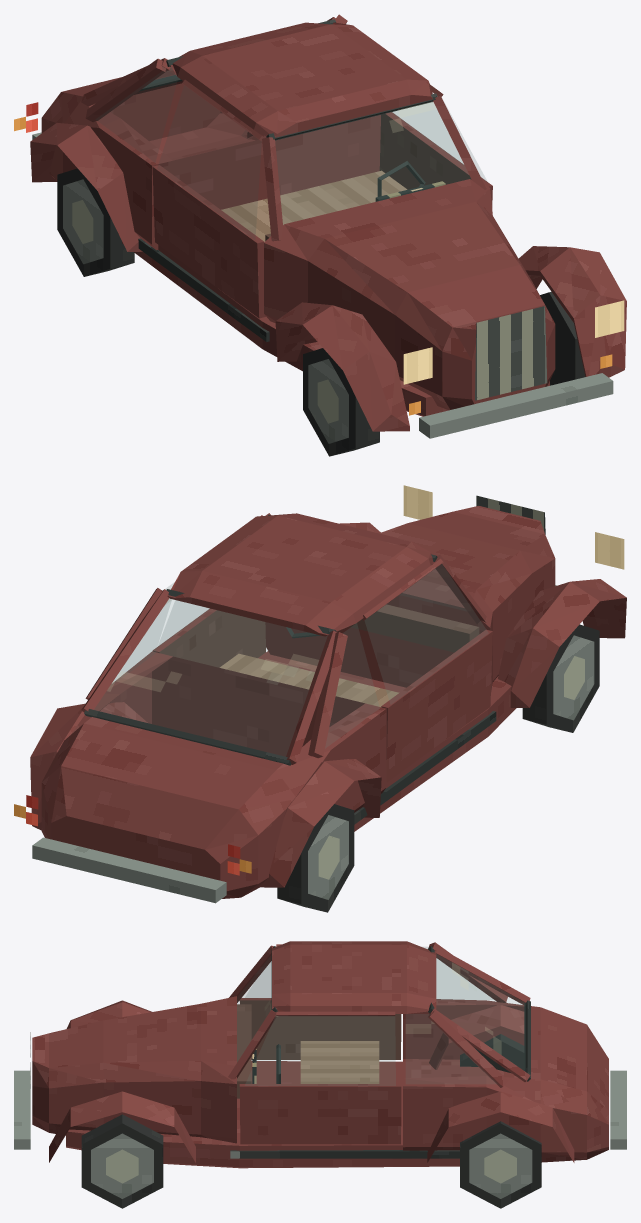
File: fenmere-1938-mid.glb
3 views of the same model, one above another, from view 1: azimuth 30°, elevation 25°; view 2: azimuth 150°, elevation 25°; view 3: azimuth 270°, elevation 25° (orthographic). The views are drawn at different scales.
Visible parts, largest first — view 1: body, Hood opening panel, Hinged side glass.001, Shaped hinged outer door.001, Padded inside door panel, Distance tyre.003, Distance tyre.001, Distance tyre, Distance hubcap.006, Distance hubcap.002, Hinged side glass, Lens (+5 smaller); view 2: body, Trunk opening panel, Hinged side glass.001, Hood opening panel, Shaped hinged outer door.001, Padded inside door panel, Distance tyre.001, Distance tyre.003, Distance hubcap.002, Distance hubcap.006, Lens.005, Lens (+4 smaller); view 3: body, Hood opening panel, Shaped hinged outer door, Hinged side glass, Trunk opening panel, Padded inside door panel.001, Distance tyre, Distance tyre.002, Distance hubcap.004, Distance hubcap, Distance tyre.003, Distance hubcap.001 (+4 smaller).
Part boxes in pixels (bbox=[...]): body: bbox=[30, 14, 626, 438]; Hood opening panel: bbox=[285, 179, 544, 329]; Hinged side glass.001: bbox=[158, 86, 261, 239]; Shaped hinged outer door.001: bbox=[152, 167, 259, 318]; Padded inside door panel: bbox=[379, 114, 471, 189]; Distance tyre.003: bbox=[57, 168, 134, 276]; Distance tyre.001: bbox=[303, 348, 379, 456]; Distance tyre: bbox=[540, 291, 585, 385]; Distance hubcap.006: bbox=[63, 179, 103, 264]; Distance hubcap.002: bbox=[308, 359, 348, 443]; Hinged side glass: bbox=[392, 93, 487, 182]; Lens: bbox=[595, 300, 624, 337]; body: bbox=[30, 495, 626, 903]; Trunk opening panel: bbox=[61, 717, 282, 849]; Hinged side glass.001: bbox=[365, 564, 487, 703]; Hood opening panel: bbox=[379, 506, 544, 607]; Shaped hinged outer door.001: bbox=[386, 631, 492, 782]; Padded inside door panel: bbox=[159, 610, 265, 667]; Distance tyre.001: bbox=[522, 624, 599, 732]; Distance tyre.003: bbox=[277, 804, 354, 912]; Distance hubcap.002: bbox=[553, 635, 594, 720]; Distance hubcap.006: bbox=[308, 815, 348, 899]; Lens.005: bbox=[595, 532, 624, 569]; Lens: bbox=[403, 485, 432, 519]; body: bbox=[14, 941, 626, 1168]; Hood opening panel: bbox=[32, 996, 236, 1067]; Shaped hinged outer door: bbox=[239, 1086, 401, 1144]; Hinged side glass: bbox=[245, 1016, 395, 1085]; Trunk opening panel: bbox=[531, 1006, 608, 1110]; Padded inside door panel.001: bbox=[239, 1000, 401, 1059]; Distance tyre: bbox=[81, 1114, 163, 1208]; Distance tyre.002: bbox=[460, 1121, 541, 1208]; Distance hubcap.004: bbox=[469, 1133, 532, 1198]; Distance hubcap: bbox=[91, 1133, 153, 1198]; Distance tyre.003: bbox=[460, 1034, 524, 1073]; Distance hubcap.001: bbox=[106, 1149, 138, 1183].
Bounding box in the file's own units: 2.06 × 1.66 × 4.76.
Materials: 5 (5 with a texture image).
